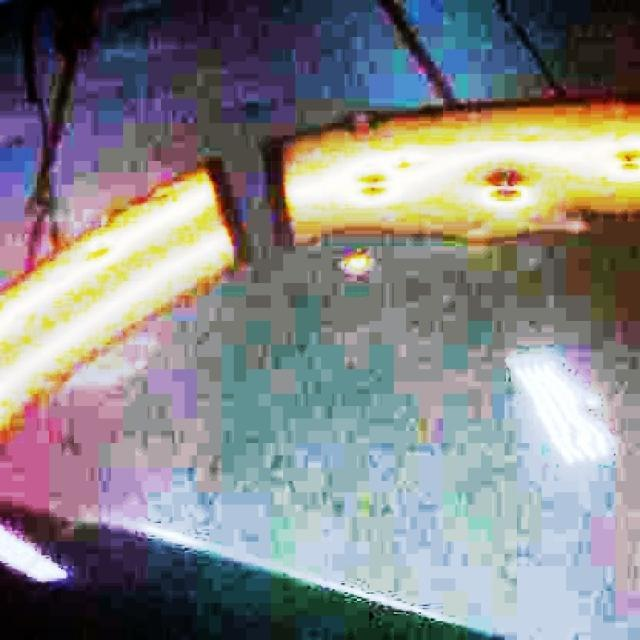dent: (486, 165, 528, 206), (358, 172, 391, 198), (621, 149, 640, 171), (87, 246, 110, 262), (397, 161, 414, 174)
